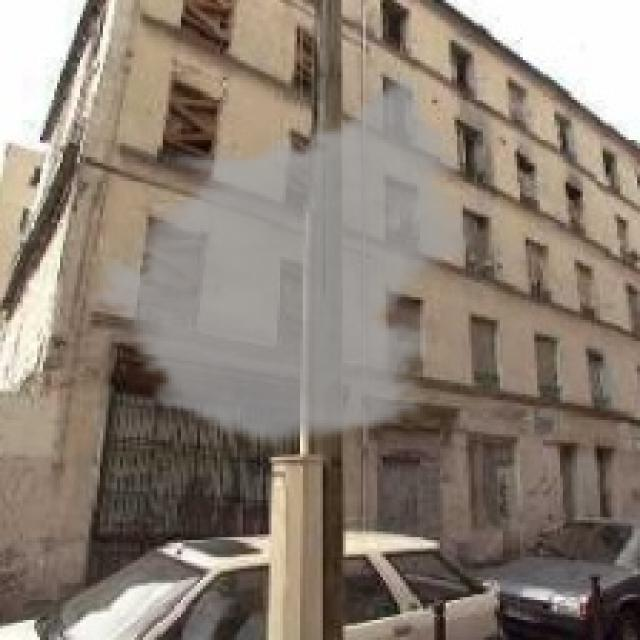Smoke: (86, 71, 488, 448)
